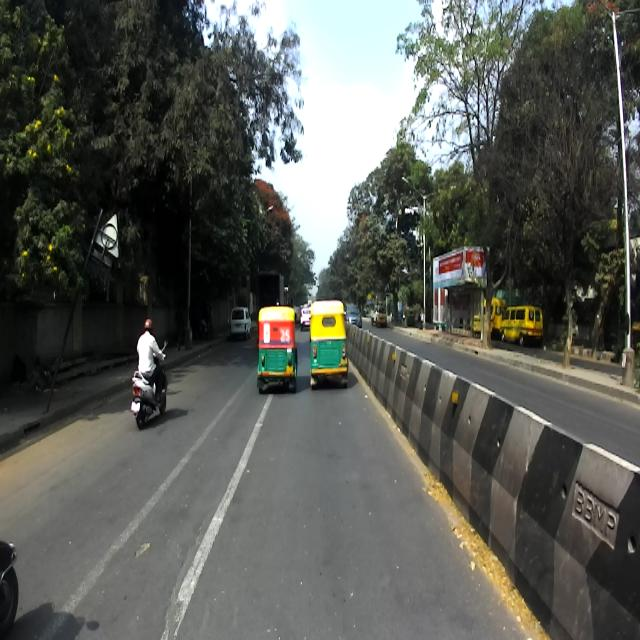auto ahead at: (255, 306, 295, 401), (312, 303, 349, 392)
motorcycle ahead at: (130, 367, 172, 435)
